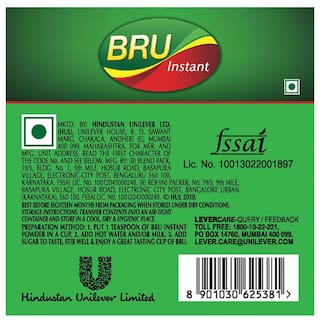fssai: (209, 126, 268, 156)
